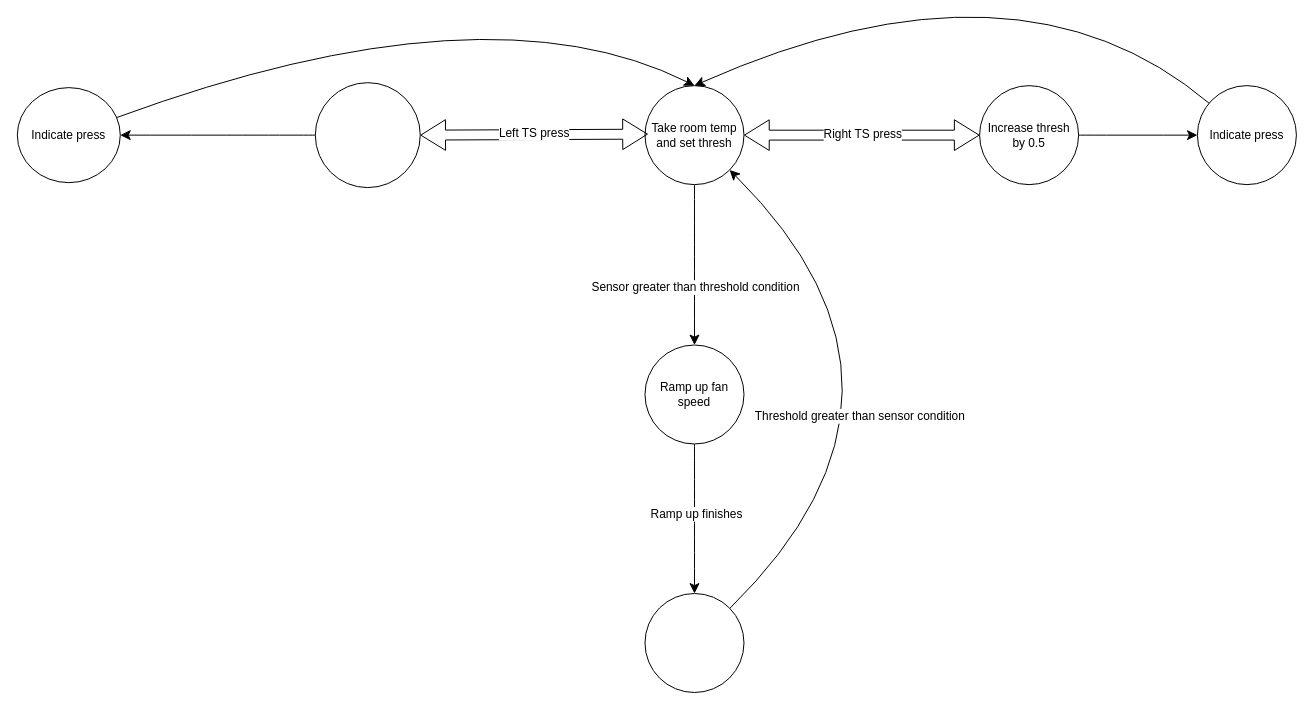
This 1314x711 diagram has some shape labels left out. The shapes that lost their labels are listed below. From the top down, each one's box as (x1, y1, x2, y2) in pixels, then its label:
(314, 82, 420, 188): Decrease thresh by 0.5
(644, 593, 744, 693): Full fan speed
